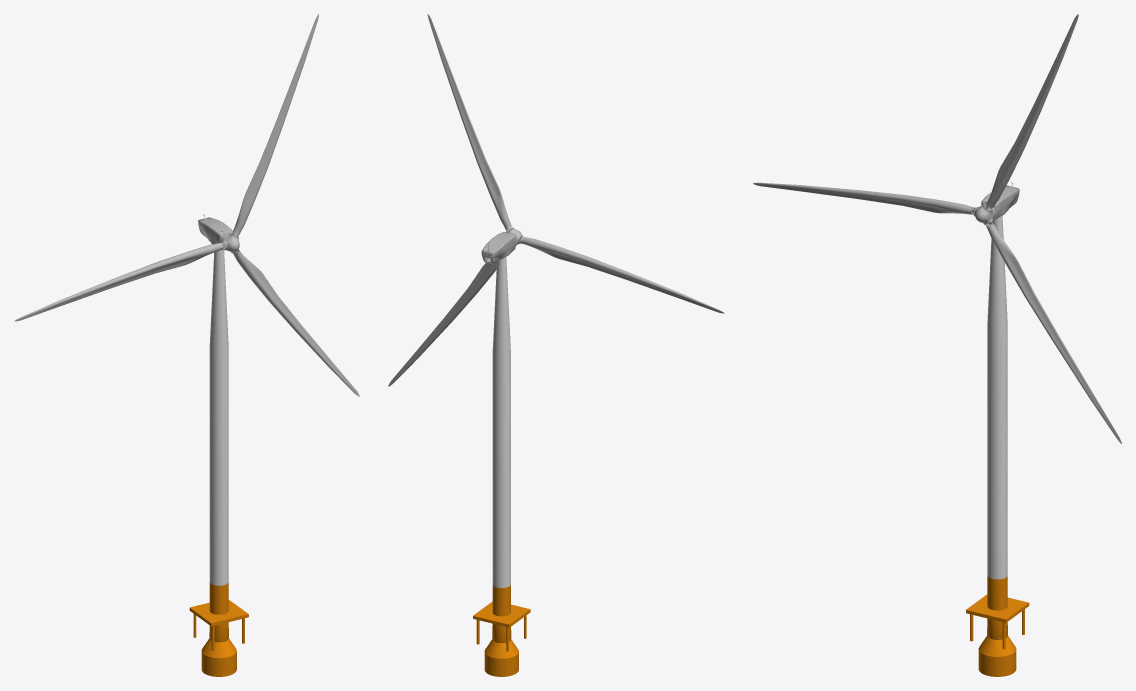
Rendered from fengji_shang.gltf.
3 views of the same model, side by side, from view 1: azimuth 30°, elevation 25°; view 2: azimuth 150°, elevation 25°; view 3: azimuth 330°, elevation 25° (orthographic). The views are drawn at different scales.
Visible parts, largest first — view 1: 立方体, Blades, Nacelle; view 2: 立方体, Blades, Nacelle; view 3: 立方体, Blades, Nacelle.
Boxes of the visible parts, x1,y1,x2,y2 form: 立方体: (189,250,248,676); Blades: (14,14,359,396); Nacelle: (198,214,232,249); 立方体: (473,257,530,676); Blades: (388,14,724,386); Nacelle: (481,232,516,264); 立方体: (966,215,1029,676); Blades: (753,14,1121,443); Nacelle: (981,182,1019,220).
Bounding box in the file's own units: 14.5 × 25.82 × 2.38.
